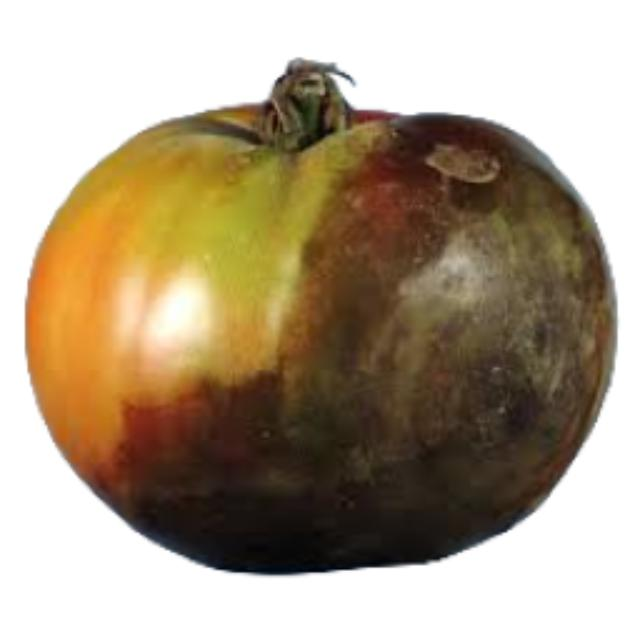defect: (21, 79, 626, 586)
